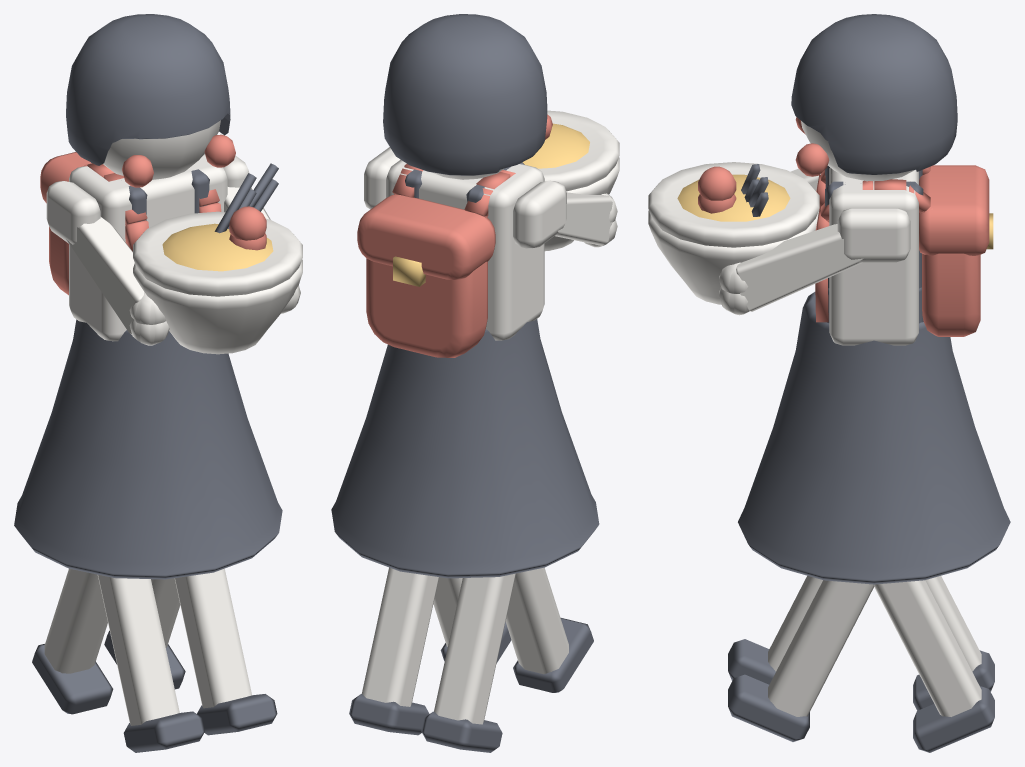
The model's file is girl.glb.
3 views of the same model, side by side, from view 1: azimuth 30°, elevation 25°; view 2: azimuth 150°, elevation 25°; view 3: azimuth 270°, elevation 25° (orthographic).
Parts seen in each view (by area): view 1: runA, runB; view 2: runA, runB; view 3: runA, runB.
Part boxes in pixels (x1,y1,x2,y2): runA: (14, 14, 302, 752); runB: (32, 179, 302, 735); runA: (331, 14, 619, 735); runB: (421, 157, 619, 752); runA: (648, 14, 1010, 752); runB: (648, 179, 994, 741).
Bounding box in the file's own units: 0.9731 × 2.75 × 1.29.
